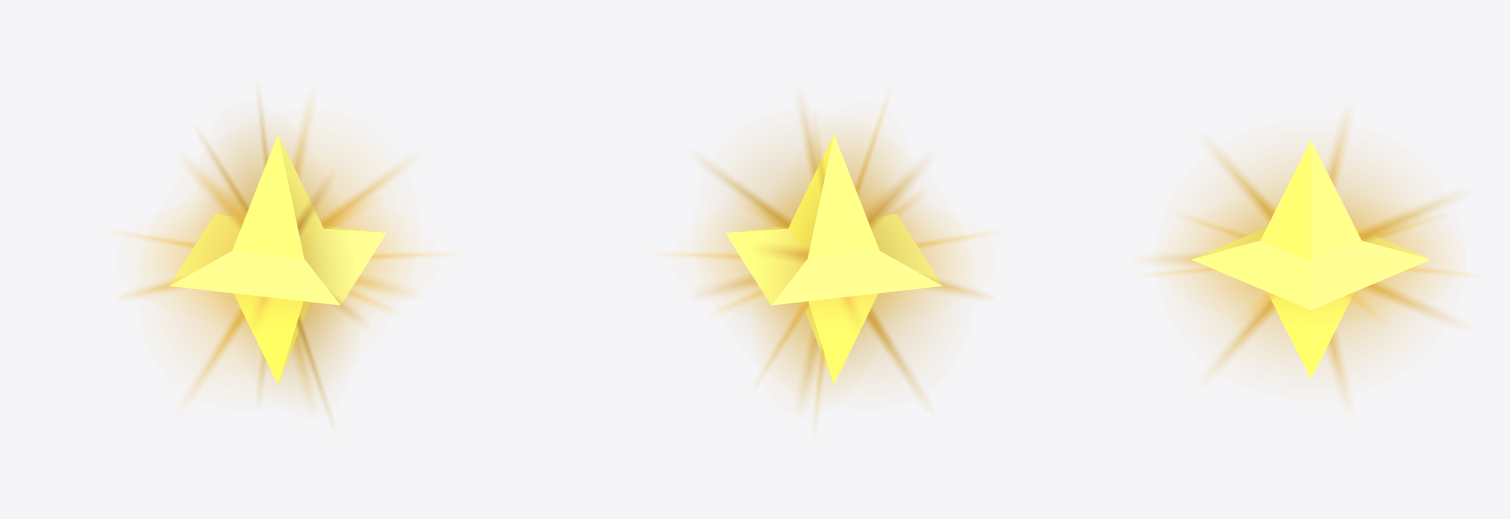
Rendered from fx_shard_asc.glb.
3 views of the same model, side by side, from view 1: azimuth 30°, elevation 25°; view 2: azimuth 150°, elevation 25°; view 3: azimuth 270°, elevation 25° (orthographic). The views are drawn at different scales.
Parts seen in each view (by area): view 1: fx_shard_glow, fx_shard_crystal; view 2: fx_shard_glow, fx_shard_crystal; view 3: fx_shard_glow, fx_shard_crystal.
Part boxes in pixels (x1,y1,x2,y2): fx_shard_glow: (124, 99, 443, 414); fx_shard_crystal: (169, 135, 386, 383); fx_shard_glow: (668, 104, 987, 419); fx_shard_crystal: (725, 135, 942, 383); fx_shard_glow: (1152, 118, 1466, 400); fx_shard_crystal: (1191, 140, 1430, 378).
Size of the model in its own units: 1.26 by 1.26 by 1.26.
2 materials, 1 textured.
